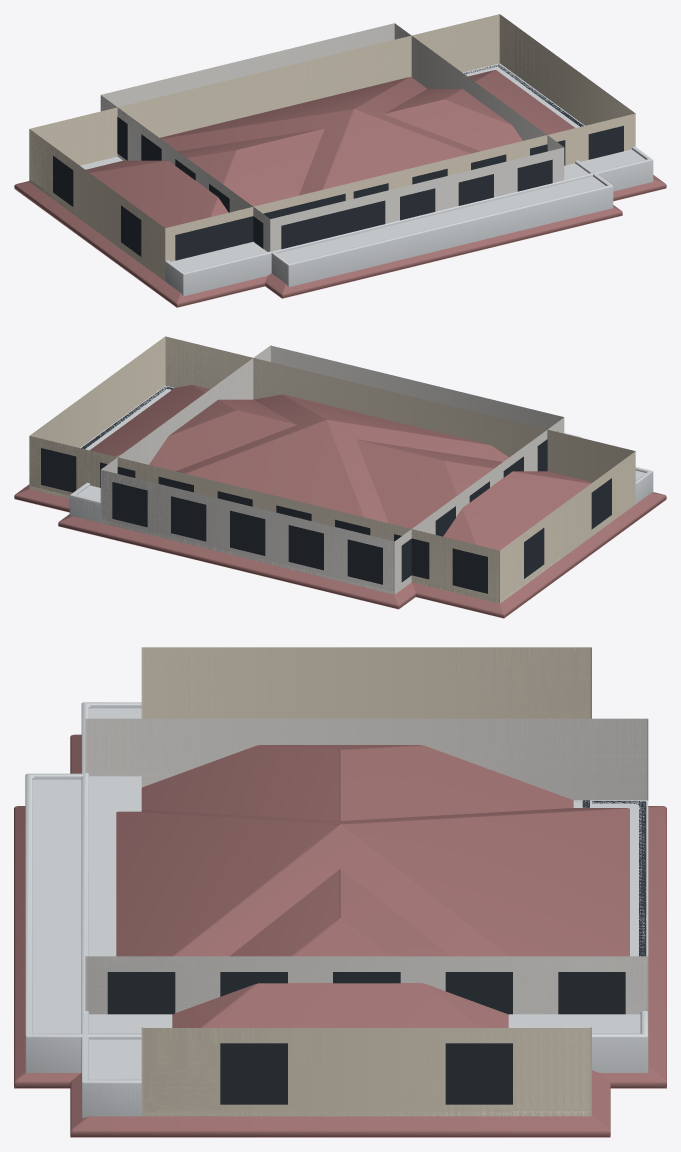
Rendered from ENV_APARTMENT_KIT_A_v001.glb.
3 views of the same model, one above another, from view 1: azimuth 30°, elevation 25°; view 2: azimuth 150°, elevation 25°; view 3: azimuth 270°, elevation 25° (orthographic). The views are drawn at different scales.
Visible parts, largest first — view 1: ENV_APARTMENT_KIT_A_BAR_FLOOR, ENV_APARTMENT_KIT_A_PLOT_FLOOR, ENV_APARTMENT_KIT_A_BAR_FLOOR_LOW, ENV_APARTMENT_KIT_A_BAR_ROOF_HIP, ENV_APARTMENT_KIT_A_PLOT_ROOF_HIP, ENV_APARTMENT_KIT_A_PLOT_FLOOR_LOW, ENV_APARTMENT_KIT_A_PLOT_GROUND_SHOP, ENV_APARTMENT_KIT_A_BAR_GROUND_SHOP, ENV_APARTMENT_KIT_A_BAR_ROOF_FLAT_LOW, ENV_APARTMENT_KIT_A_BAR_ROOF_HIP_LOW, ENV_APARTMENT_KIT_A_BAR_ROOF_FLAT; view 2: ENV_APARTMENT_KIT_A_BAR_FLOOR, ENV_APARTMENT_KIT_A_BAR_ROOF_HIP, ENV_APARTMENT_KIT_A_PLOT_FLOOR, ENV_APARTMENT_KIT_A_PLOT_ROOF_HIP, ENV_APARTMENT_KIT_A_BAR_FLOOR_LOW, ENV_APARTMENT_KIT_A_PLOT_FLOOR_LOW, ENV_APARTMENT_KIT_A_BAR_ROOF_FLAT_LOW, ENV_APARTMENT_KIT_A_BAR_ROOF_FLAT, ENV_APARTMENT_KIT_A_BAR_ROOF_HIP_LOW, ENV_APARTMENT_KIT_A_PLOT_ROOF_HIP_LOW; view 3: ENV_APARTMENT_KIT_A_BAR_FLOOR, ENV_APARTMENT_KIT_A_PLOT_ROOF_HIP, ENV_APARTMENT_KIT_A_PLOT_FLOOR, ENV_APARTMENT_KIT_A_BAR_ROOF_HIP, ENV_APARTMENT_KIT_A_BAR_FLOOR_LOW, ENV_APARTMENT_KIT_A_PLOT_FLOOR_LOW, ENV_APARTMENT_KIT_A_PLOT_ROOF_FLAT_LOW, ENV_APARTMENT_KIT_A_PLOT_ROOF_FLAT, ENV_APARTMENT_KIT_A_BAR_ROOF_HIP_LOW.
Boxes of the visible parts, bbox=[...] form: ENV_APARTMENT_KIT_A_BAR_FLOOR: bbox=[30, 14, 653, 296]; ENV_APARTMENT_KIT_A_PLOT_FLOOR: bbox=[101, 23, 613, 286]; ENV_APARTMENT_KIT_A_BAR_FLOOR_LOW: bbox=[29, 14, 645, 287]; ENV_APARTMENT_KIT_A_BAR_ROOF_HIP: bbox=[14, 70, 666, 307]; ENV_APARTMENT_KIT_A_PLOT_ROOF_HIP: bbox=[160, 77, 622, 297]; ENV_APARTMENT_KIT_A_PLOT_FLOOR_LOW: bbox=[100, 24, 605, 284]; ENV_APARTMENT_KIT_A_PLOT_GROUND_SHOP: bbox=[281, 200, 385, 249]; ENV_APARTMENT_KIT_A_BAR_GROUND_SHOP: bbox=[175, 193, 345, 260]; ENV_APARTMENT_KIT_A_BAR_ROOF_FLAT_LOW: bbox=[29, 63, 584, 279]; ENV_APARTMENT_KIT_A_BAR_ROOF_HIP_LOW: bbox=[14, 98, 666, 307]; ENV_APARTMENT_KIT_A_BAR_ROOF_FLAT: bbox=[30, 64, 583, 272]; ENV_APARTMENT_KIT_A_BAR_FLOOR: bbox=[30, 336, 653, 602]; ENV_APARTMENT_KIT_A_BAR_ROOF_HIP: bbox=[14, 385, 666, 617]; ENV_APARTMENT_KIT_A_PLOT_FLOOR: bbox=[69, 345, 581, 594]; ENV_APARTMENT_KIT_A_PLOT_ROOF_HIP: bbox=[58, 394, 508, 608]; ENV_APARTMENT_KIT_A_BAR_FLOOR_LOW: bbox=[29, 336, 645, 603]; ENV_APARTMENT_KIT_A_PLOT_FLOOR_LOW: bbox=[71, 346, 564, 594]; ENV_APARTMENT_KIT_A_BAR_ROOF_FLAT_LOW: bbox=[29, 385, 635, 603]; ENV_APARTMENT_KIT_A_BAR_ROOF_FLAT: bbox=[30, 386, 559, 603]; ENV_APARTMENT_KIT_A_BAR_ROOF_HIP_LOW: bbox=[14, 409, 666, 618]; ENV_APARTMENT_KIT_A_PLOT_ROOF_HIP_LOW: bbox=[58, 418, 415, 609]; ENV_APARTMENT_KIT_A_BAR_FLOOR: bbox=[81, 647, 591, 1118]; ENV_APARTMENT_KIT_A_PLOT_ROOF_HIP: bbox=[14, 806, 666, 1087]; ENV_APARTMENT_KIT_A_PLOT_FLOOR: bbox=[25, 718, 648, 1072]; ENV_APARTMENT_KIT_A_BAR_ROOF_HIP: bbox=[70, 734, 610, 1136]; ENV_APARTMENT_KIT_A_BAR_FLOOR_LOW: bbox=[85, 647, 591, 1116]; ENV_APARTMENT_KIT_A_PLOT_FLOOR_LOW: bbox=[32, 718, 648, 1033]; ENV_APARTMENT_KIT_A_PLOT_ROOF_FLAT_LOW: bbox=[574, 800, 648, 956]; ENV_APARTMENT_KIT_A_PLOT_ROOF_FLAT: bbox=[592, 801, 646, 956]; ENV_APARTMENT_KIT_A_BAR_ROOF_HIP_LOW: bbox=[70, 749, 610, 1137].
Size of the model in its own units: 25 by 4.47 by 17.4.
